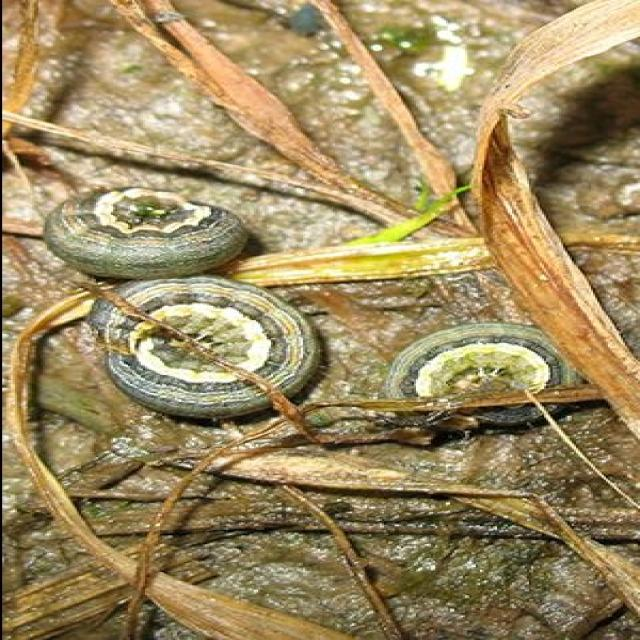army worm: (92, 277, 337, 437), (383, 324, 583, 441), (39, 187, 257, 281)
